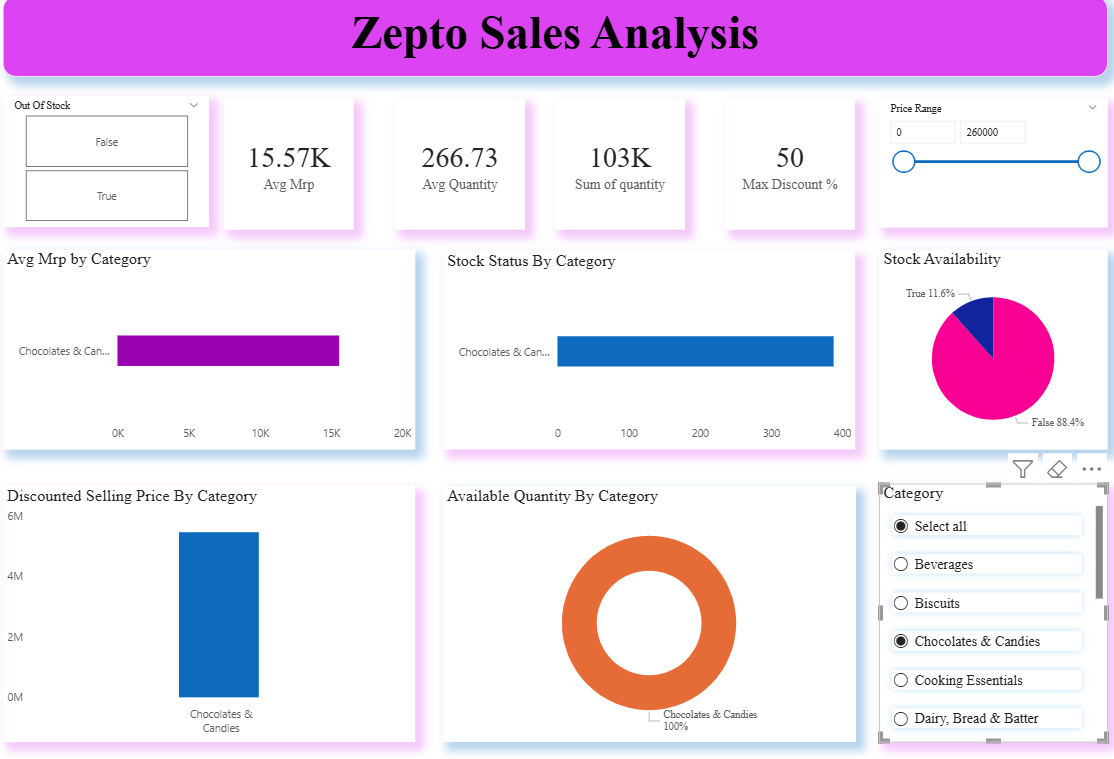

The page's visual inventory and layout, read from the dashboard file:
{"tool":"powerbi","page":{"name":"Page 1","canvas":[1280,900],"ordinal":0},"visuals":[{"type":"textbox","box":[9.6,0,1259.7,91.9],"z":0},{"type":"card","fields":{"Values":["zepto_v2.Avg Mrp"]},"box":[262.3,116.9,148.2,149.7],"z":1000},{"type":"card","fields":{"Values":["zepto_v2.Avg Quantity"]},"box":[457.6,116.9,148.2,149.7],"z":2000},{"type":"card","fields":{"Values":["Sum(zepto_v2.quantity)"]},"box":[640,116.9,148.2,149.7],"z":3000},{"type":"clusteredBarChart","fields":{"Y":["zepto_v2.Avg Mrp"],"Category":["zepto_v2.Category"]},"box":[9.6,289.5,470.7,227.8],"z":4000},{"type":"pieChart","title":"Stock Availability ","fields":{"Category":["zepto_v2.outOfStock"],"Y":["CountNonNull(zepto_v2.quantity)"]},"box":[1008.6,289.5,260.7,227.8],"z":5000},{"type":"listSlicer","fields":{"Values":["zepto_v2.Category"]},"box":[1009.2,555.9,260.8,295.1],"z":6000},{"type":"card","fields":{"Values":["zepto_v2.Max Discount %"]},"box":[833.9,116.9,148.2,149.7],"z":7000},{"type":"slicer","fields":{"Values":["zepto_v2.outOfStock"]},"box":[10,114,235.2,149.7],"z":8000},{"type":"clusteredBarChart","title":"Stock Status By Category","fields":{"Category":["zepto_v2.Category"],"Y":["CountNonNull(zepto_v2.outOfStock)"]},"box":[511.8,290.9,470.7,226.4],"z":9000},{"type":"clusteredColumnChart","title":"Discounted Selling Price By Category","fields":{"Category":["zepto_v2.Category"],"Y":["Sum(zepto_v2.discountedSellingPrice)"]},"box":[10,558.8,470.4,292.2],"z":10000},{"type":"donutChart","title":"Available Quantity By Category","fields":{"Category":["zepto_v2.Category"],"Y":["Sum(zepto_v2.availableQuantity)"]},"box":[512,559,471,292],"z":10001},{"type":"slicer","fields":{"Values":["zepto_v2.mrp"]},"box":[1009.2,116.9,260.8,146.8],"z":10002}]}

Visuals, with their boxes on the page's 1280x900 design canvas (x1, y1, x2, y2). These are canvas units, not pixel positions in the 1114x759 screenshot, which may show the page scaled, cropped or inside an application window:
textbox: rect(10, 0, 1269, 92)
card - zepto_v2.Avg Mrp: rect(262, 117, 410, 267)
card - zepto_v2.Avg Quantity: rect(458, 117, 606, 267)
card - Sum(zepto_v2.quantity): rect(640, 117, 788, 267)
clusteredBarChart - zepto_v2.Avg Mrp x zepto_v2.Category: rect(10, 290, 480, 517)
"Stock Availability " pieChart: rect(1009, 290, 1269, 517)
listSlicer - zepto_v2.Category: rect(1009, 556, 1270, 851)
card - zepto_v2.Max Discount %: rect(834, 117, 982, 267)
slicer - zepto_v2.outOfStock: rect(10, 114, 245, 264)
"Stock Status By Category" clusteredBarChart: rect(512, 291, 982, 517)
"Discounted Selling Price By Category" clusteredColumnChart: rect(10, 559, 480, 851)
"Available Quantity By Category" donutChart: rect(512, 559, 983, 851)
slicer - zepto_v2.mrp: rect(1009, 117, 1270, 264)
